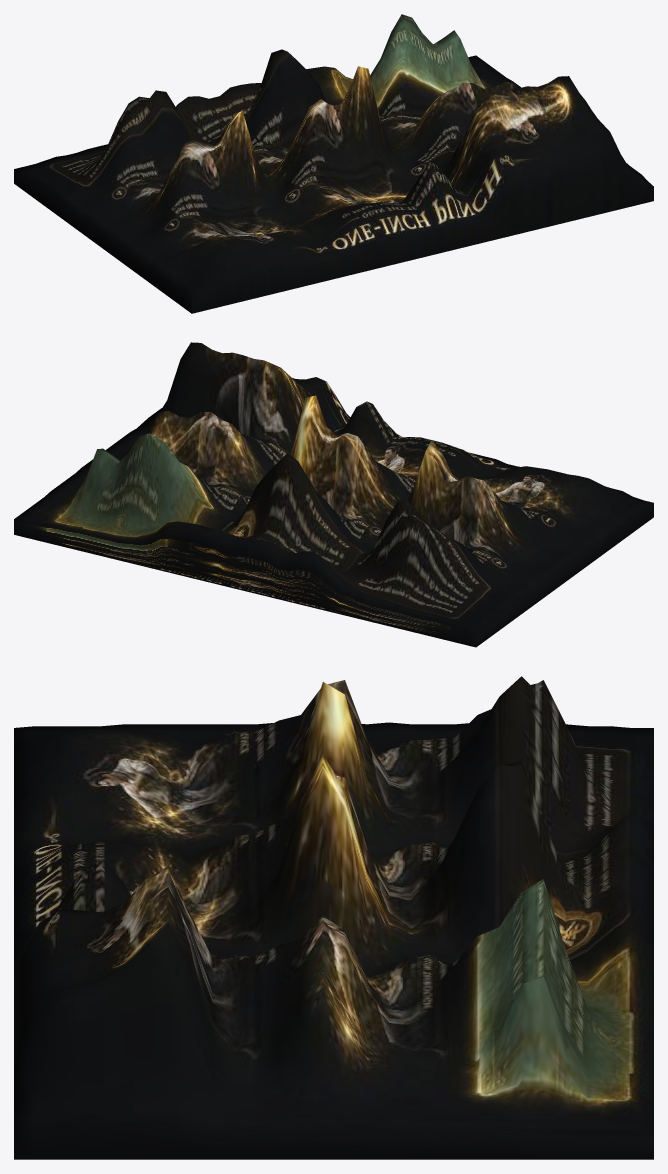
The model's file is CUL_16_Fist_Quan.glb.
3 views of the same model, one above another, from view 1: azimuth 30°, elevation 25°; view 2: azimuth 150°, elevation 25°; view 3: azimuth 270°, elevation 25° (orthographic). The views are drawn at different scales.
Parts seen in each view (by area): view 1: CUL_16_Fist_Quan; view 2: CUL_16_Fist_Quan; view 3: CUL_16_Fist_Quan.
Part boxes in pixels (x1,y1,x2,y2): CUL_16_Fist_Quan: (14,14,653,313); CUL_16_Fist_Quan: (14,342,653,647); CUL_16_Fist_Quan: (14,676,653,1159).
Size of the model in its own units: 2 by 0.51 by 1.33.
1 material, 1 textured.
